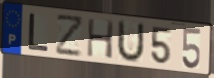5: (181, 27, 202, 71), (150, 26, 173, 65)
H: (86, 17, 116, 61)
L: (27, 12, 51, 53)
U: (115, 18, 146, 64)
Z: (55, 14, 85, 58)
